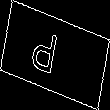P_S: (39, 26, 71, 84)
